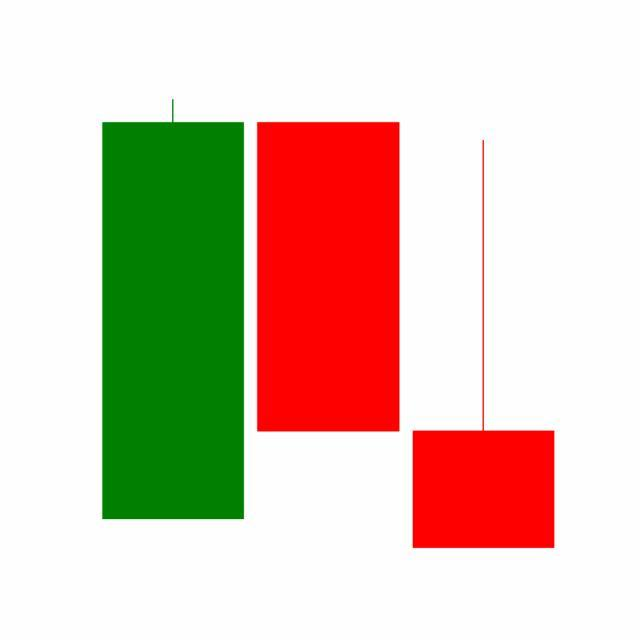Marubozu: (250, 119, 407, 435)
